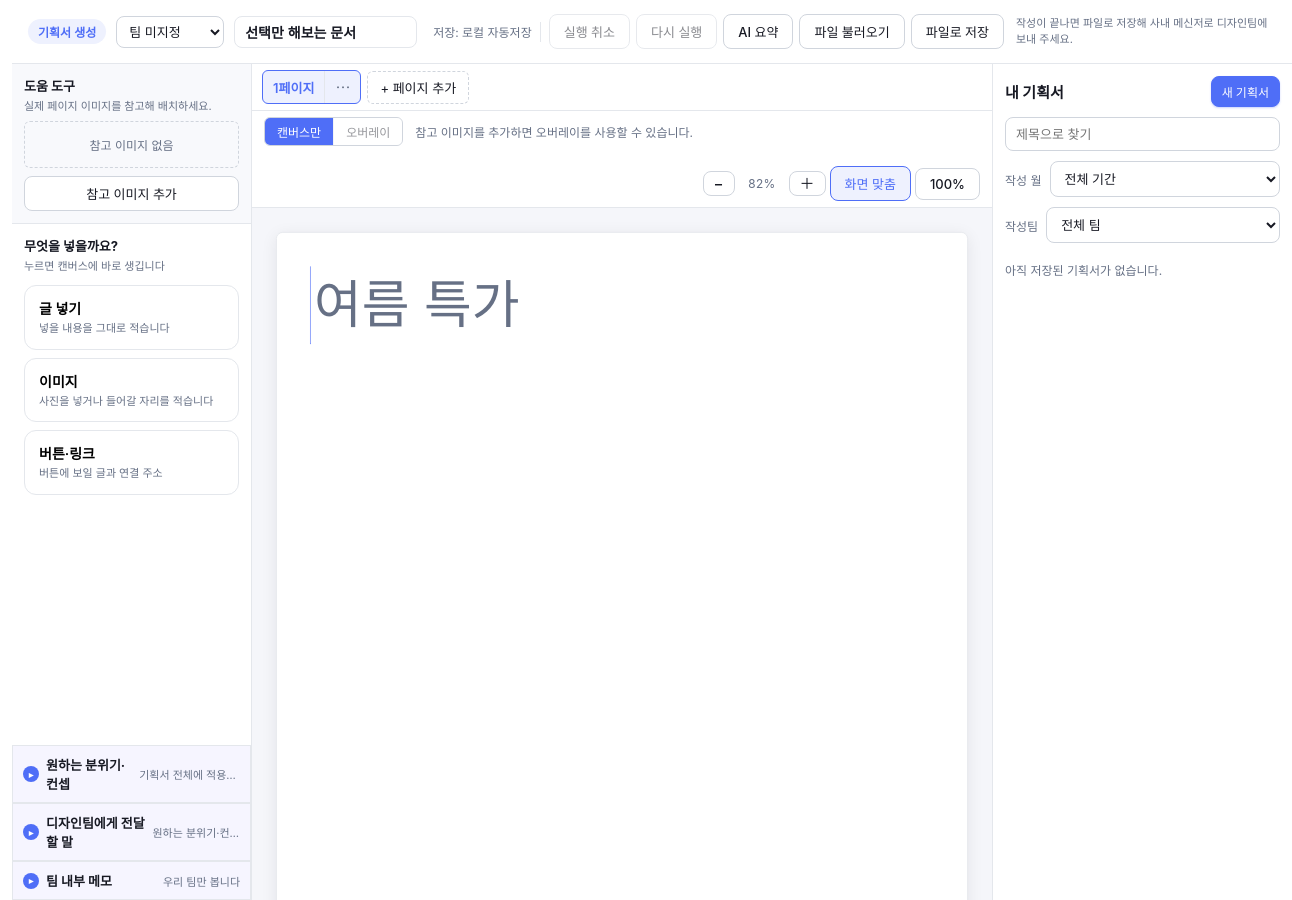
Test: §3.2 부유 도구막대 › never changes the block box or the content fingerprint
Click the button with class "block-card" at {"x": 442, "y": 305}, box top-left (310, 266), bottom-right (573, 345)
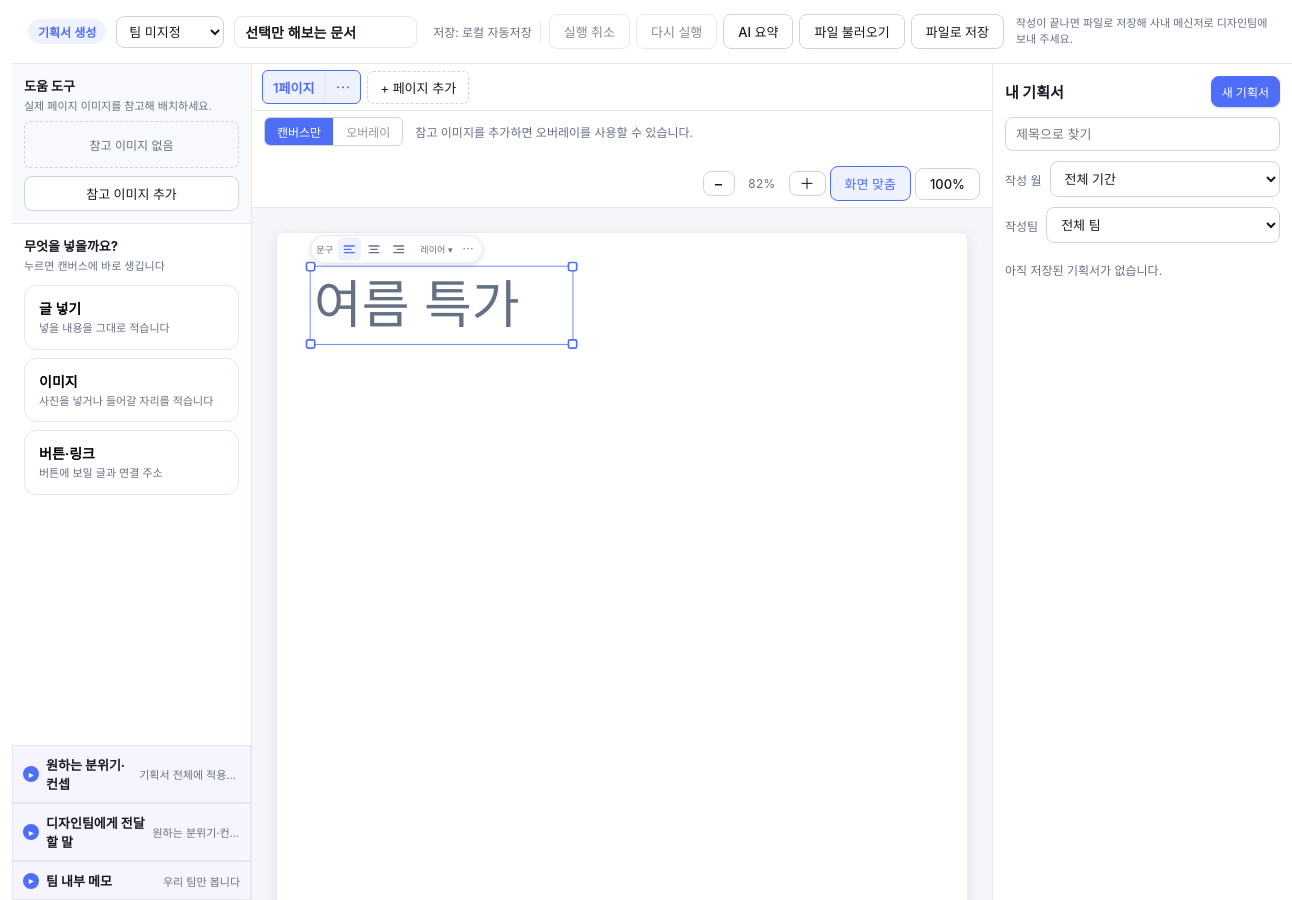
Check: the element with class "block-toolbar" is shown, box top-left (311, 235), bottom-right (483, 263)
